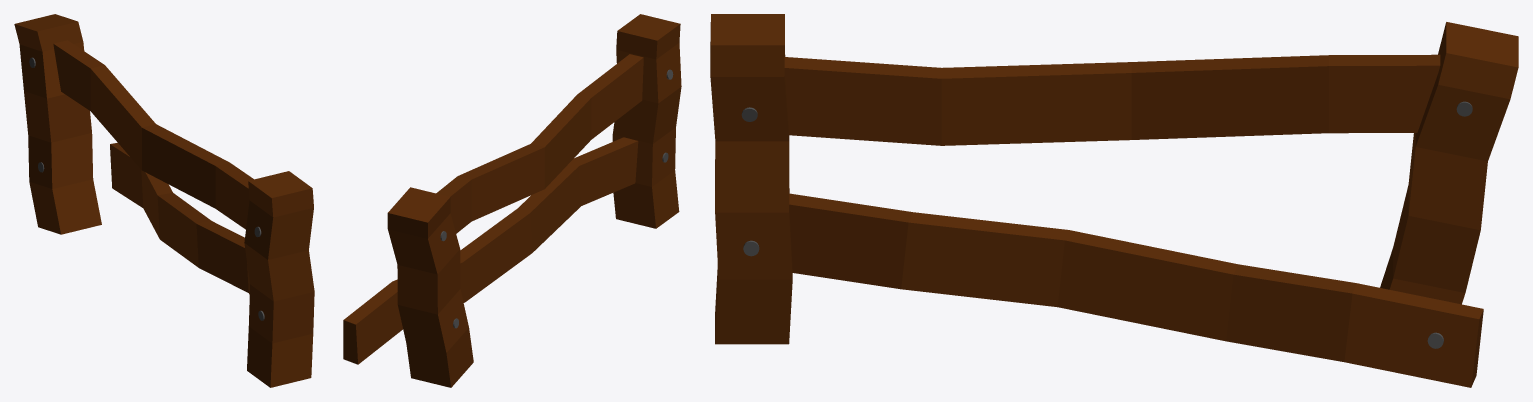
The model's file is Broken Fence.fbx.
3 renders of one model, left to right at view 1: azimuth 30°, elevation 25°; view 2: azimuth 150°, elevation 25°; view 3: azimuth 270°, elevation 25°, orthographic. The views are drawn at different scales.
Parts seen in each view (by area): view 1: Broken_Fence; view 2: Broken_Fence; view 3: Broken_Fence.
Boxes of the visible parts, bbox=[...] form: Broken_Fence: bbox=[14, 14, 314, 387]; Broken_Fence: bbox=[343, 14, 681, 387]; Broken_Fence: bbox=[710, 14, 1518, 387].
Size of the model in its own units: 0.5713 by 1.05 by 2.45.
